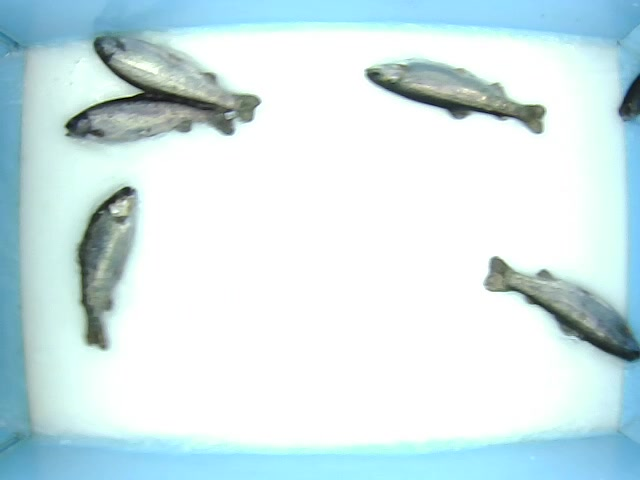fish: (482, 251, 640, 363), (87, 31, 263, 125), (363, 55, 545, 137), (74, 185, 141, 352), (60, 85, 242, 143)
